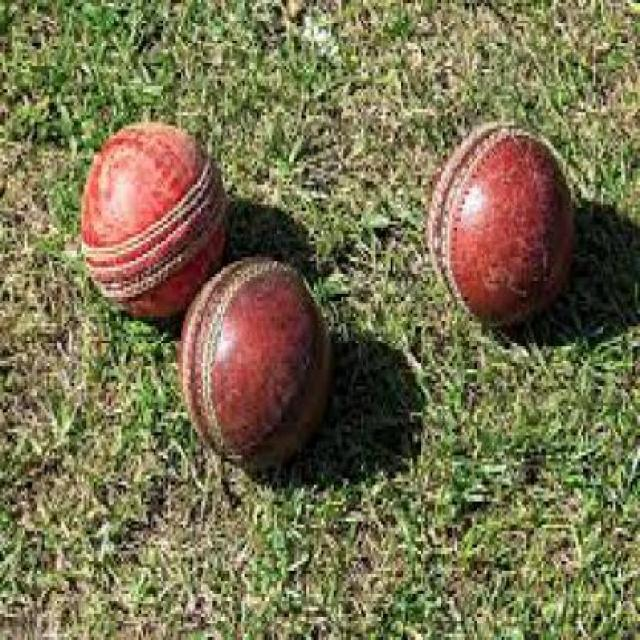ball: (418, 93, 616, 340), (54, 114, 229, 330)
